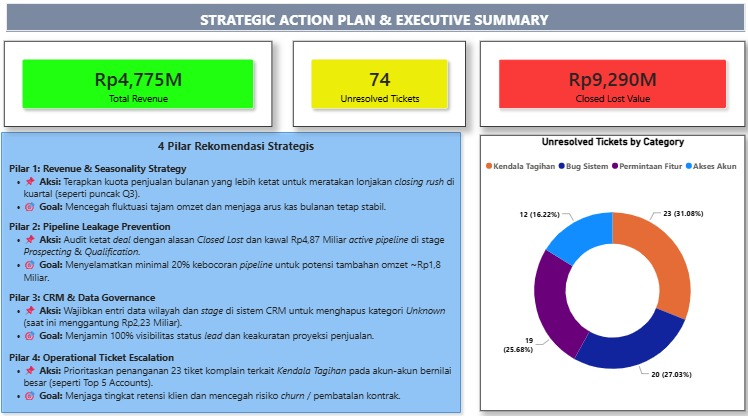

The page's visual inventory and layout, read from the dashboard file:
{"tool":"powerbi","page":{"name":"Strategic Action Plan & Next Steps","canvas":[1280,720],"ordinal":4},"visuals":[{"type":"shape","box":[0,223.3,783.3,485],"z":0},{"type":"shape","box":[16,16,1232,48],"z":1000},{"type":"textbox","box":[291.7,21.7,678.3,43.3],"z":2000},{"type":"cardVisual","fields":{"Data":["Measure.Total Revenue"]},"box":[13.3,80,446.7,143.3],"z":3000},{"type":"cardVisual","fields":{"Data":["Measure.Closed Lost Value"]},"box":[806.7,80,441.7,143.3],"z":4000},{"type":"cardVisual","fields":{"Data":["Measure.Unresolved Tickets"]},"box":[495,80,288.3,143.3],"z":5000},{"type":"textbox","box":[16.7,276.7,766.7,120],"z":6000},{"type":"textbox","box":[16.7,373.3,766.7,143.3],"z":7000},{"type":"textbox","box":[16.7,491.7,766.7,111.7],"z":8000},{"type":"textbox","box":[16.7,591.7,766.7,128.3],"z":9000},{"type":"textbox","box":[236.7,236.7,326.7,40],"z":10000},{"type":"donutChart","title":"Unresolved Tickets by Category","fields":{"Category":["v_clean_tickets.clean_category"],"Y":["Measure.Unresolved Tickets"]},"box":[806.7,236.7,441.7,460],"z":10001}]}

Visuals, with their boxes in screenshot pixels (x1, y1, x2, y2), scaled from the page's 1280x720 canvas onto the 748x416 screenshot:
shape: BBox(0, 129, 458, 409)
shape: BBox(9, 9, 729, 37)
textbox: BBox(170, 13, 567, 38)
cardVisual - Measure.Total Revenue: BBox(8, 46, 269, 129)
cardVisual - Measure.Closed Lost Value: BBox(471, 46, 730, 129)
cardVisual - Measure.Unresolved Tickets: BBox(289, 46, 458, 129)
textbox: BBox(10, 160, 458, 229)
textbox: BBox(10, 216, 458, 298)
textbox: BBox(10, 284, 458, 349)
textbox: BBox(10, 342, 458, 415)
textbox: BBox(138, 137, 329, 160)
"Unresolved Tickets by Category" donutChart: BBox(471, 137, 730, 403)
